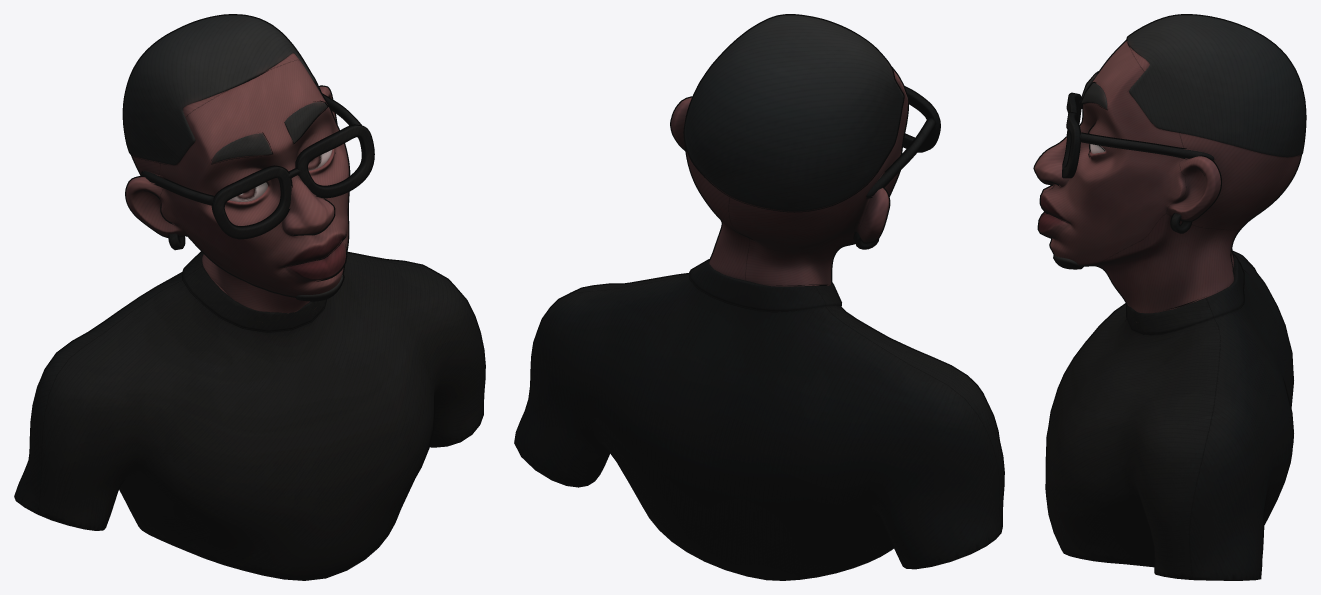
The model's file is SM_PortraitWeb-v1.glb.
The picture shows the model from 3 angles, left to right: view 1: azimuth 30°, elevation 25°; view 2: azimuth 150°, elevation 25°; view 3: azimuth 270°, elevation 25°; orthographic projection. The views are drawn at different scales.
Parts seen in each view (by area): view 1: outline; view 2: outline; view 3: outline.
Boxes of the visible parts, x1,y1,x2,y2 form: outline: (14,14,485,580); outline: (514,14,1004,580); outline: (1033,14,1306,580).
Bounding box in the file's own units: 0.5744 × 0.6302 × 0.3031.
2 materials, 1 textured.
